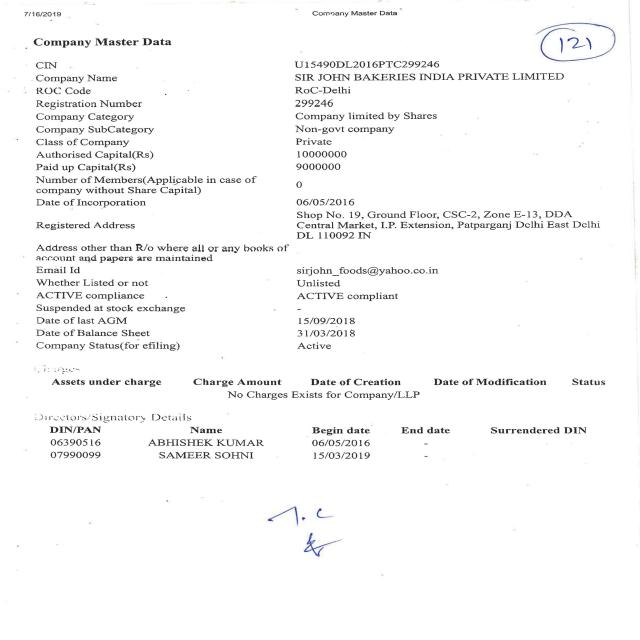page-number: (417, 0, 640, 67)
